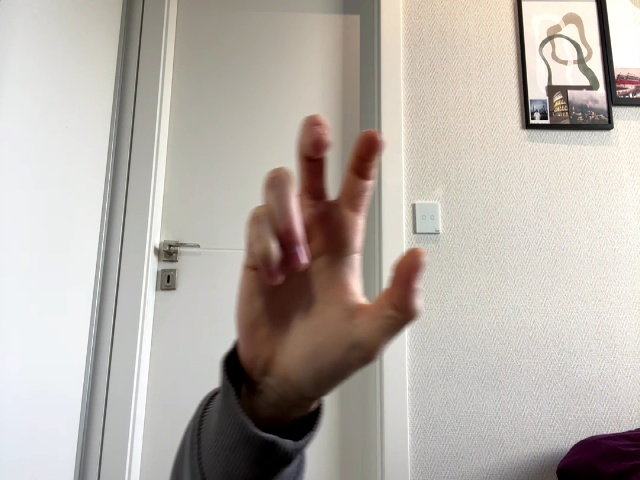CH: (237, 116, 426, 398)
